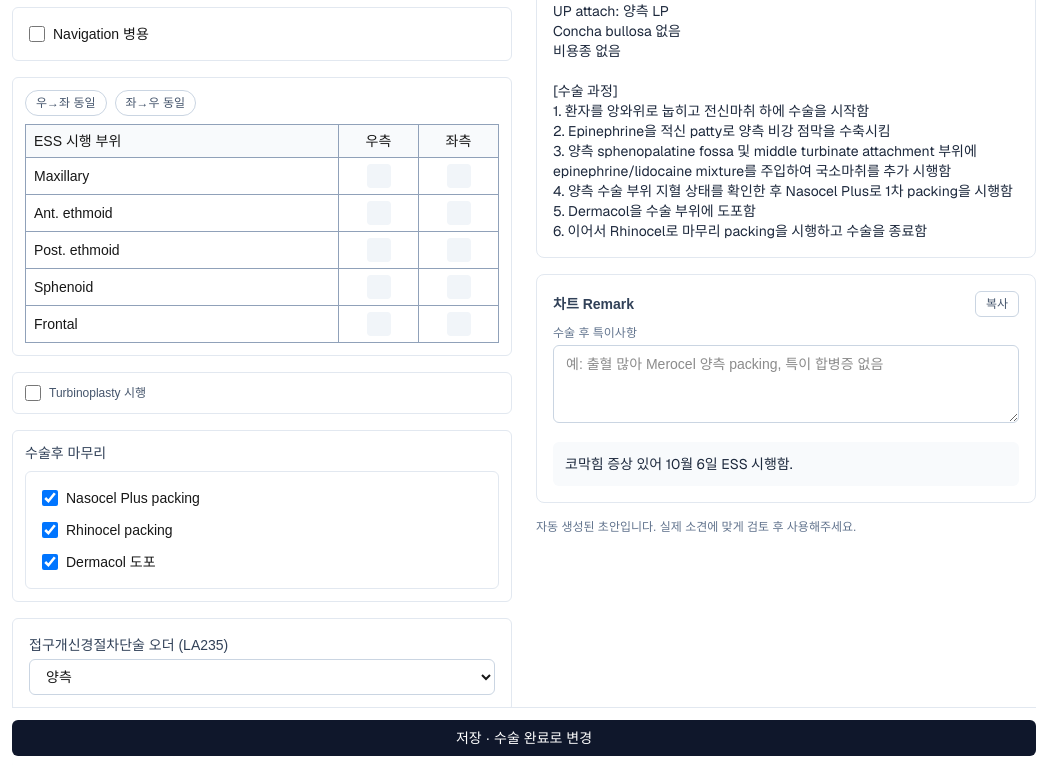
차트 Remark › CC와 수술 후 특이사항을 수술명과 함께 remark로 묶고, 수술 전 화면에서도 저장 값이 남는다
(page scrolled)
Type "출혈 많아 packing" into the text box with placeholder "예: 출혈 많아 Merocel 양측 packing, 특이 합병증 없음" at [786, 384], box x1=553 y1=345 x2=1019 y2=423
(page scrolled)
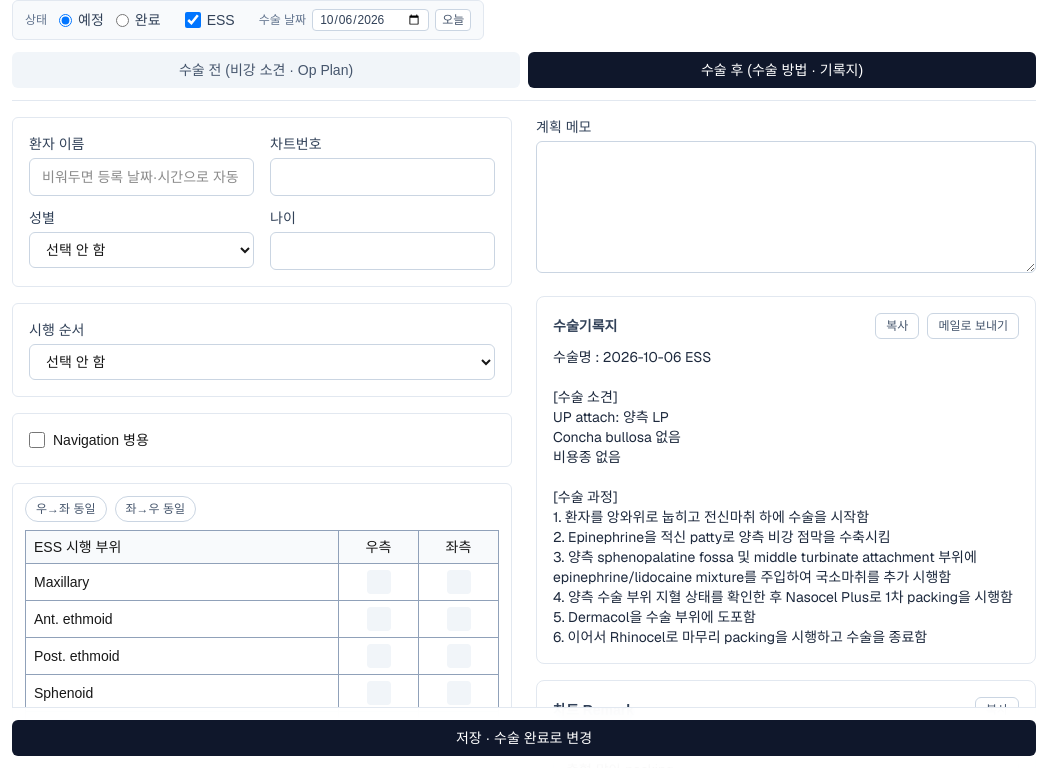
Click the button "수술 전 (비강 소견 · Op Plan)" at [266, 70], box x1=12 y1=52 x2=520 y2=88
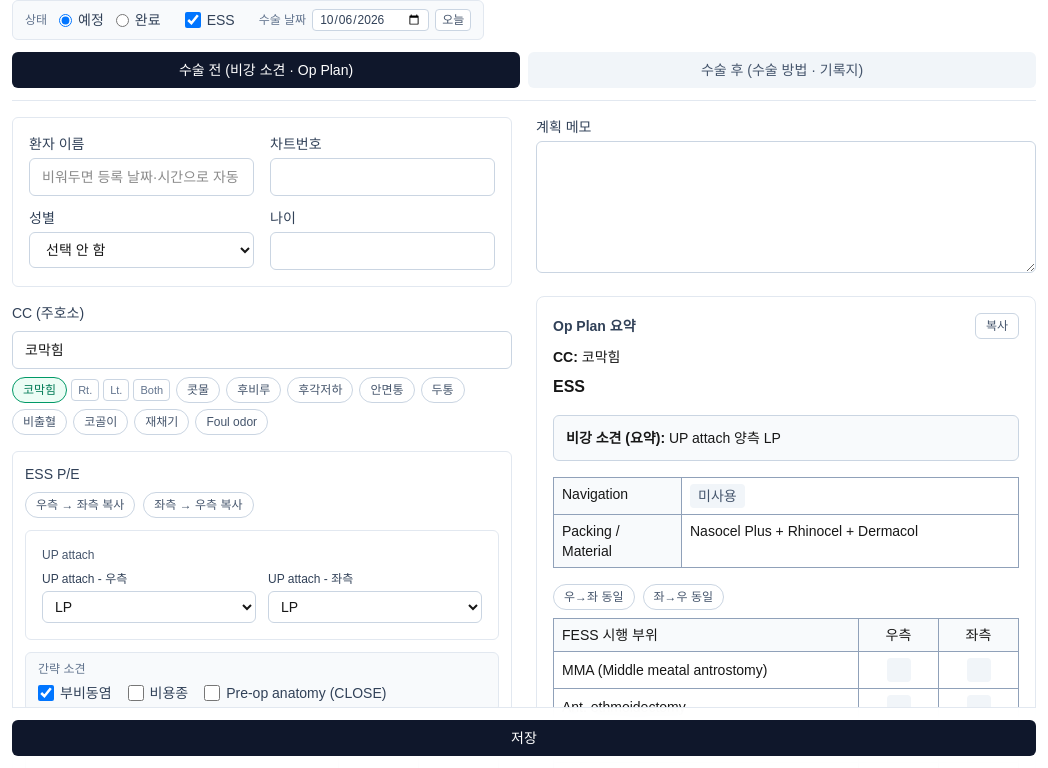
Expected: the button "코막힘" is shown, x1=12 y1=377 x2=67 y2=403
